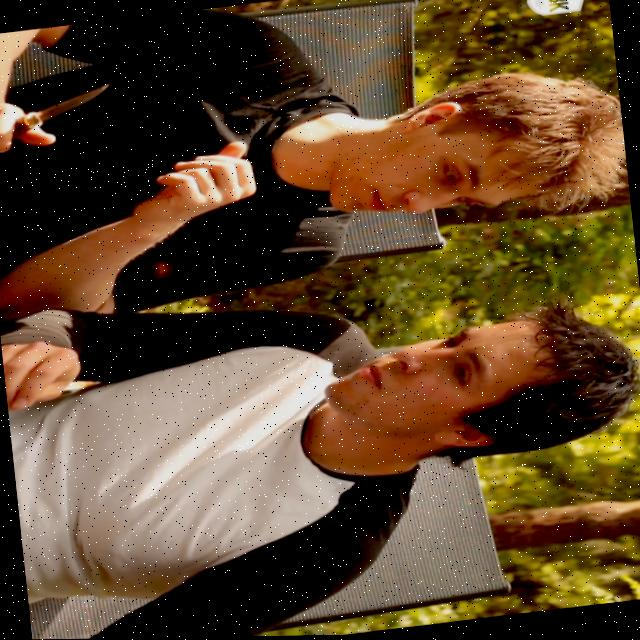knife: (8, 79, 116, 145)
